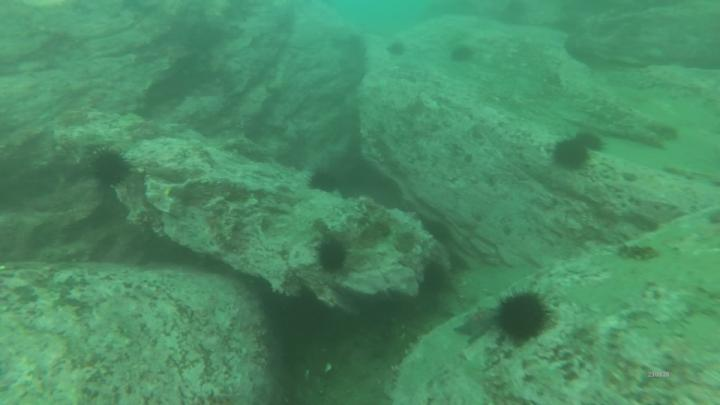echinus: (501, 295, 545, 339), (91, 153, 127, 185), (552, 141, 589, 170), (318, 241, 346, 273), (425, 260, 451, 293), (425, 220, 453, 244), (308, 174, 335, 194), (577, 130, 603, 150), (449, 45, 474, 62), (387, 43, 406, 54)
holothurian: (615, 242, 662, 263)
starfish: (454, 306, 498, 343)
